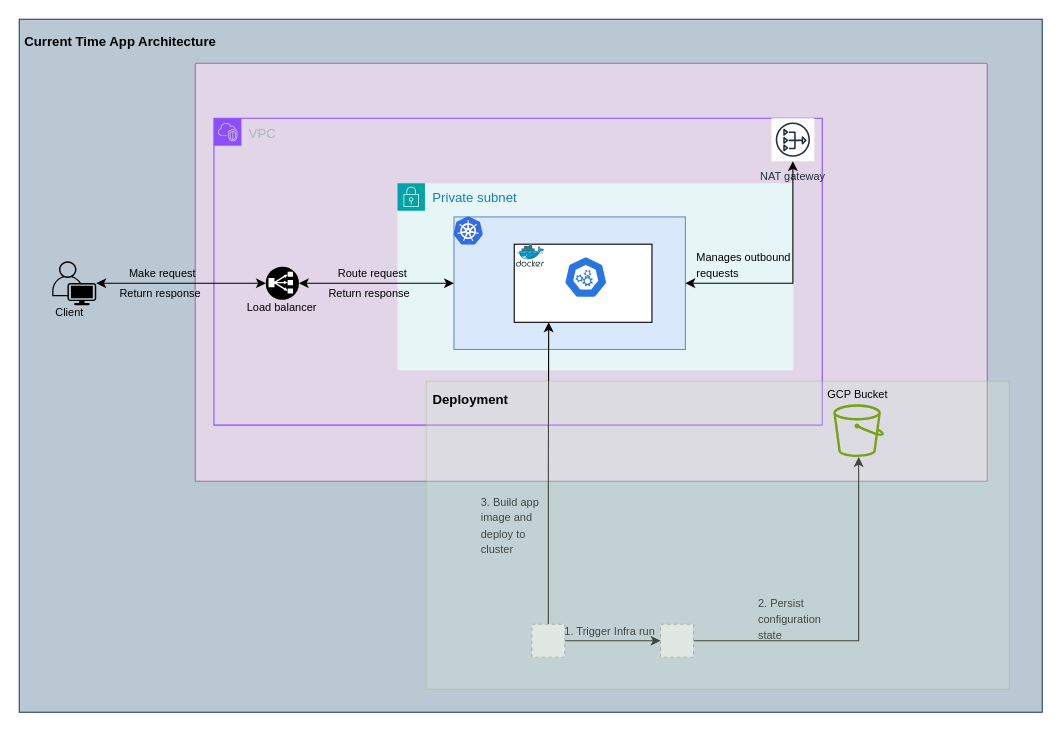
The diagram is 1062 pixels wide and 732 high, and some of its shapes have lost their labels. Grey dashed boxes stand in for pictures. The shapes that lost their labels are listed below. From the top down, each one's box as (x1, y1, x2, y2) in pixels, then its label:
(563, 255, 608, 298): App container
(194, 62, 987, 481): GCP Infrastructure
